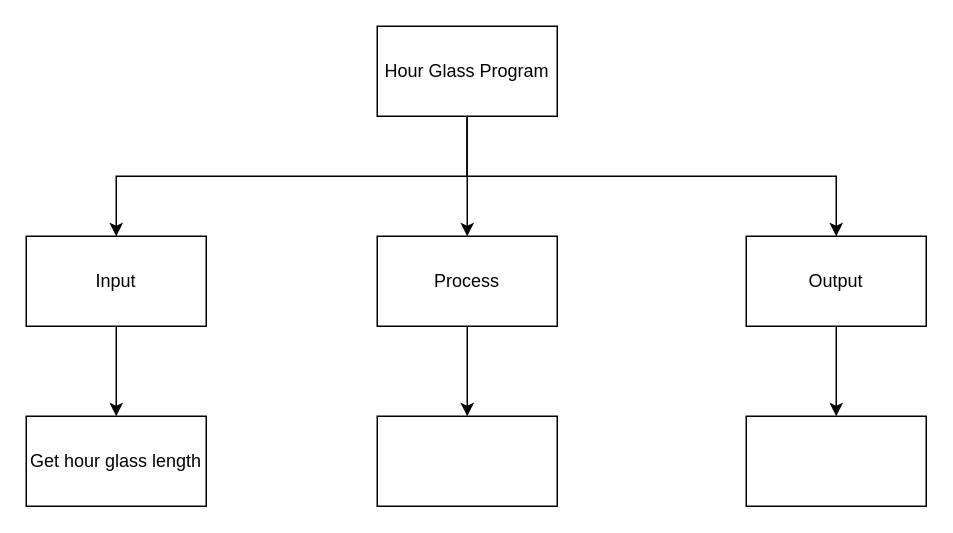
Some shapes in this 953 by 533 pixel diagram are drawn without their labels. Each missing label, with the centre of its shape:
Calculate the correct number of stars on each line and spaces: (x=466, y=460)
Show hour glass: (x=835, y=460)
